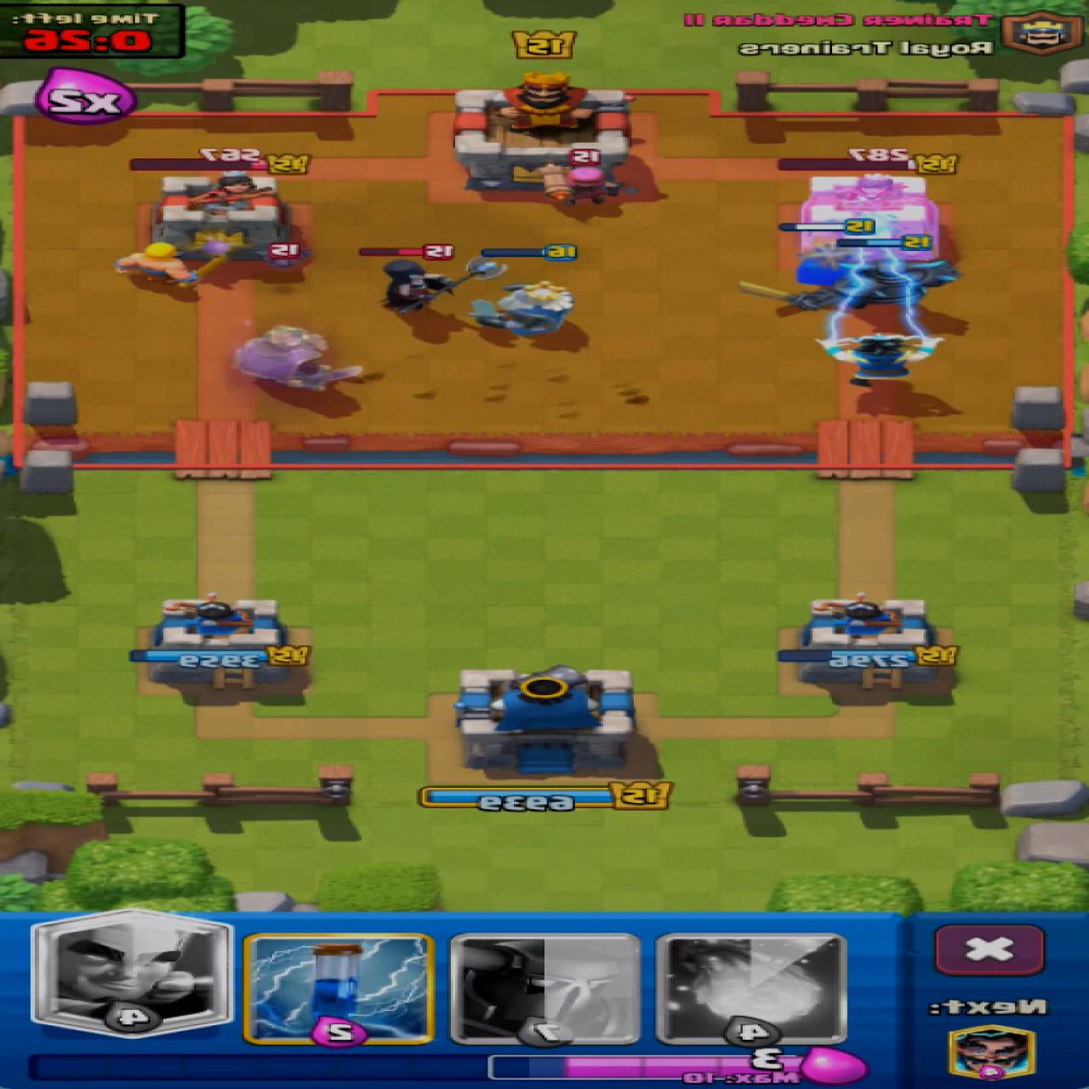Enemy-Bat: (268, 243, 301, 267)
Enemy-Firecracker: (544, 167, 619, 206)
Enemy-KingTower: (455, 72, 629, 192)
Enemy-NightWitch: (388, 258, 505, 314)
Enemy-PrincessTower: (152, 170, 290, 259), (799, 174, 937, 256)
